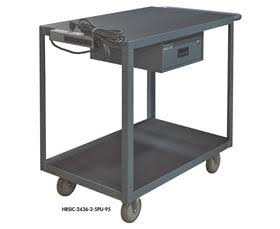Carts: (38, 5, 243, 224)
